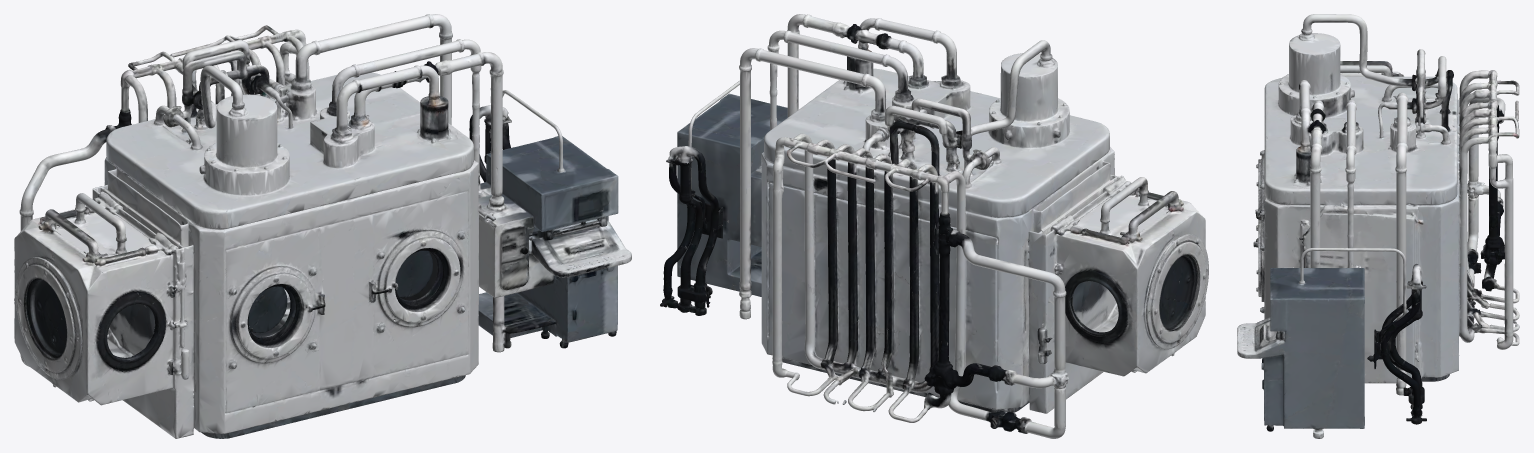
The model's file is thinfilm_cvd.glb.
3 renders of one model, left to right at view 1: azimuth 30°, elevation 25°; view 2: azimuth 150°, elevation 25°; view 3: azimuth 270°, elevation 25°, orthographic. The views are drawn at different scales.
Bounding box in the file's own units: 1.9 × 1.14 × 1.04.
Materials: 1 (1 with a texture image).
